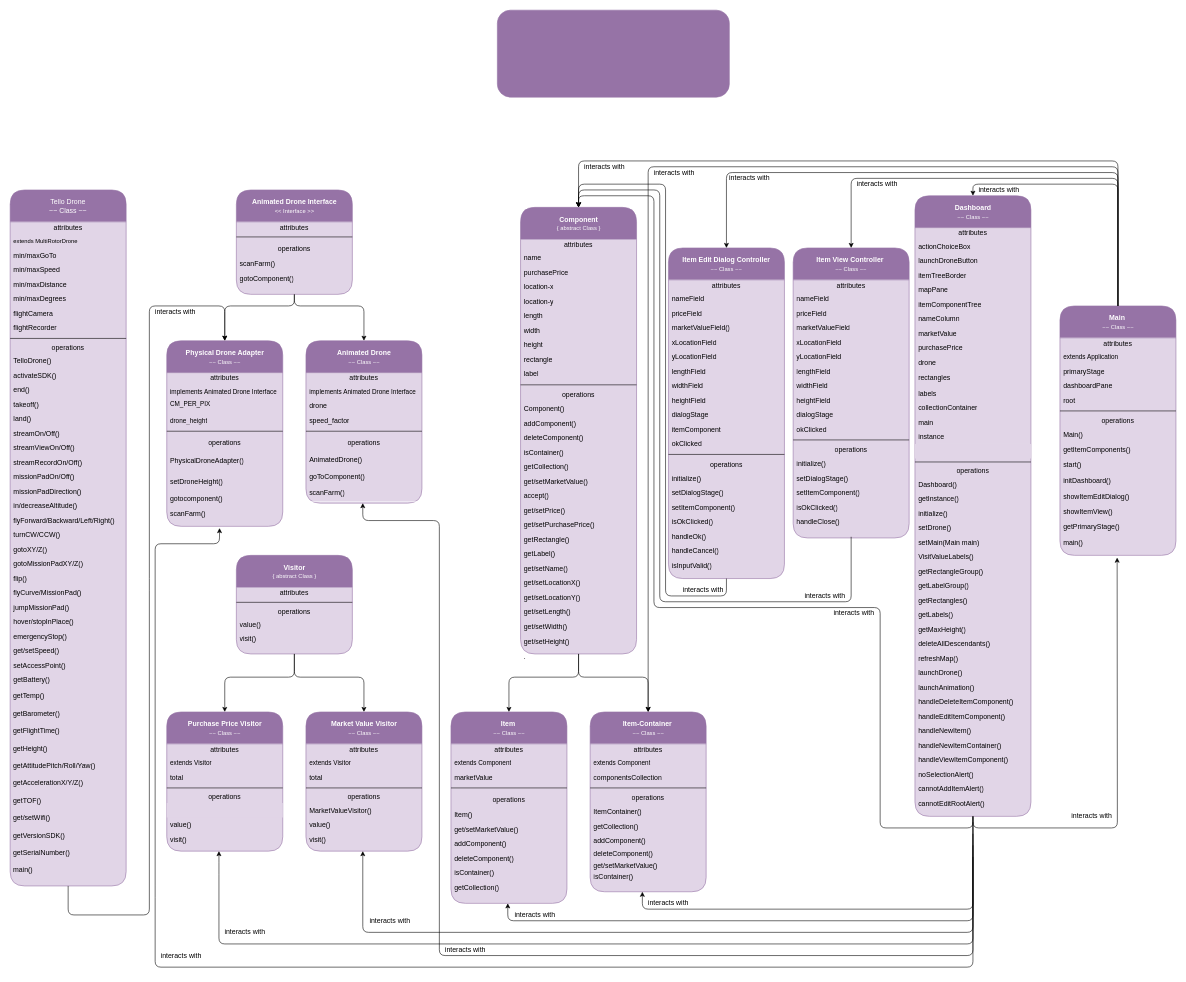
The diagram is 1186 pixels wide and 982 high, and some of its shapes have lost their labels. Here are the shapes that lost their labels. From the top down, the centre of each, then its label:
At pixel 613 53: "Drone App Class Diagram".
At pixel 973 451: "max_height".
At pixel 224 810: "PurchasePriceVisitor()".
